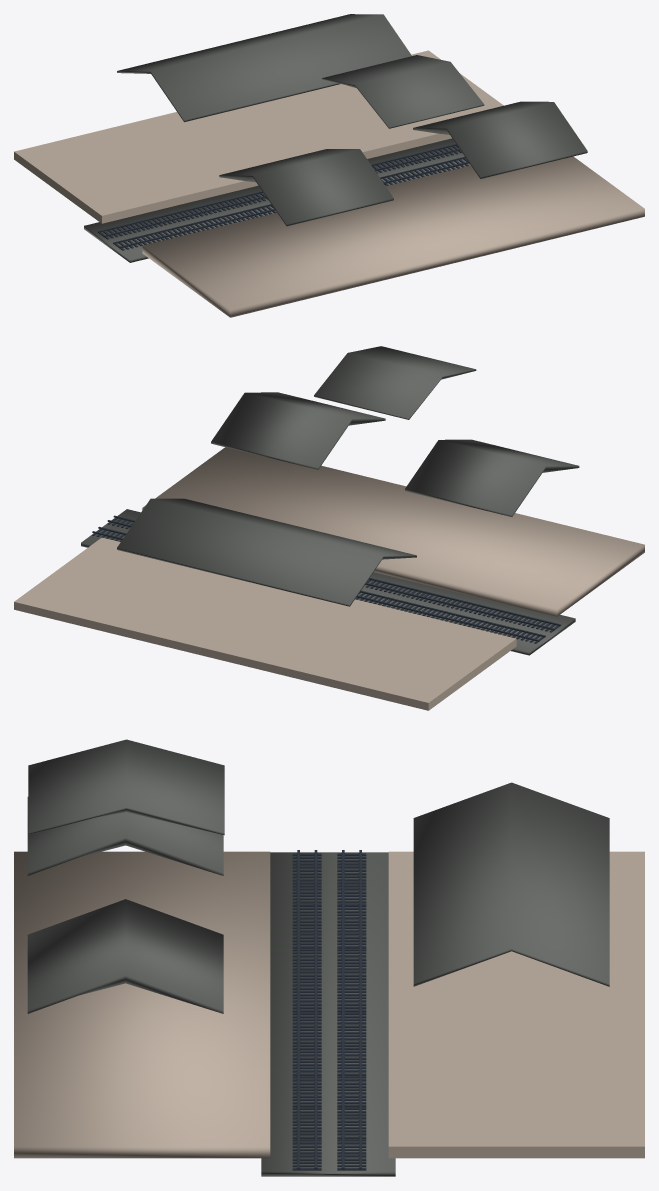
Rendered from Train_Station.fbx.
3 views of the same model, one above another, from view 1: azimuth 30°, elevation 25°; view 2: azimuth 150°, elevation 25°; view 3: azimuth 270°, elevation 25° (orthographic). The views are drawn at different scales.
Visible parts, largest first — view 1: Platform_01, Platform, Roof, Roof.001, Roof.002, Roof_01, Track_Base, Track_02, Track_01; view 2: Platform, Platform_01, Roof, Roof.002, Roof.001, Roof_01, Track_Base, Track_01, Track_02; view 3: Platform_01, Platform, Roof, Track_Base, Roof.001, Roof_01, Track_01, Track_02, Roof.002.
Boxes of the visible parts, x1,y1,x2,y2 form: Platform_01: [142, 156, 644, 317]; Platform: [14, 50, 503, 223]; Roof: [117, 14, 411, 122]; Roof.001: [413, 101, 587, 178]; Roof.002: [219, 149, 393, 226]; Roof_01: [322, 55, 484, 128]; Track_Base: [84, 138, 470, 262]; Track_02: [97, 144, 461, 239]; Track_01: [113, 156, 469, 250]; Platform: [14, 537, 516, 710]; Platform_01: [142, 447, 644, 616]; Roof: [117, 498, 416, 606]; Roof.002: [405, 439, 579, 516]; Roof.001: [211, 392, 385, 469]; Roof_01: [314, 346, 476, 419]; Track_Base: [81, 509, 575, 655]; Track_01: [107, 515, 561, 632]; Track_02: [92, 526, 545, 643]; Platform_01: [14, 851, 270, 1158]; Platform: [388, 851, 644, 1158]; Roof: [413, 782, 609, 986]; Track_Base: [261, 852, 395, 1176]; Roof.001: [27, 899, 223, 1013]; Roof_01: [28, 739, 224, 835]; Track_01: [292, 850, 321, 1170]; Track_02: [337, 850, 366, 1170]; Roof.002: [27, 797, 223, 875].
Bounding box in the file's own units: 348 × 125 × 291.
